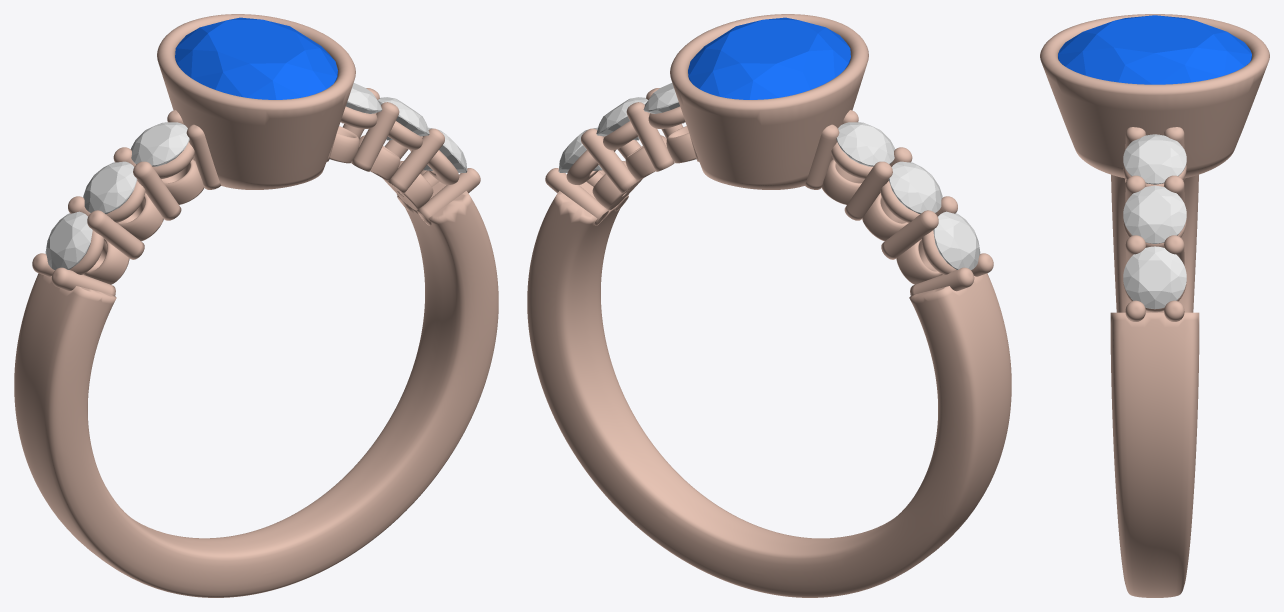
The model's file is bluesapphire-oval-rosegold-bezelset-straighttaperedband-7stone.glb.
3 renders of one model, left to right at view 1: azimuth 30°, elevation 25°; view 2: azimuth 150°, elevation 25°; view 3: azimuth 270°, elevation 25°, orthographic.
Parts seen in each view (by area): view 1: metal, stone.002, side.018, side.019, side.020, side.022, side.023; view 2: metal, stone.002, side.018, side.019, side.020, side.022, side.023; view 3: metal, stone.002, side.021, side.022, side.023.
Boxes of the visible parts, x1,y1,x2,y2 form: metal: [14, 14, 498, 597]; stone.002: [175, 17, 337, 99]; side.018: [45, 211, 92, 270]; side.019: [83, 161, 137, 213]; side.020: [130, 122, 189, 166]; side.022: [377, 97, 429, 140]; side.023: [342, 83, 382, 123]; metal: [527, 14, 1011, 597]; stone.002: [688, 17, 850, 99]; side.018: [933, 211, 980, 270]; side.019: [888, 161, 942, 213]; side.020: [836, 122, 895, 166]; side.022: [596, 97, 648, 140]; side.023: [643, 83, 683, 123]; metal: [1040, 14, 1269, 597]; stone.002: [1058, 15, 1251, 84]; side.021: [1123, 246, 1186, 309]; side.022: [1123, 185, 1186, 243]; side.023: [1123, 134, 1186, 184].
Size of the model in its own units: 20.49 by 23.41 by 9.04.
